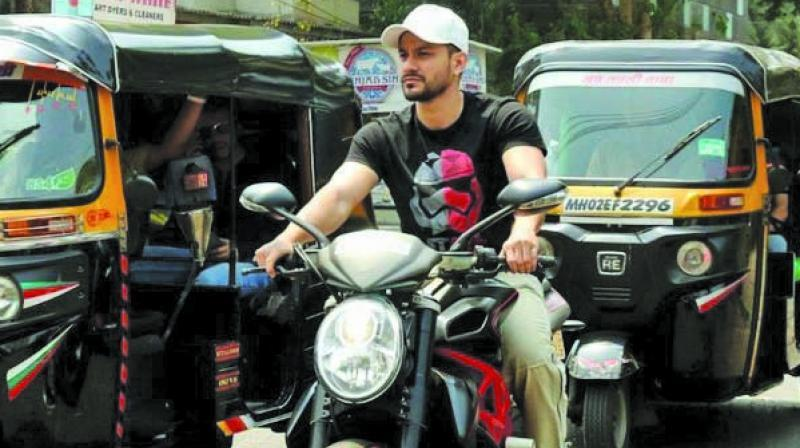nohelmet: (379, 0, 476, 107)
